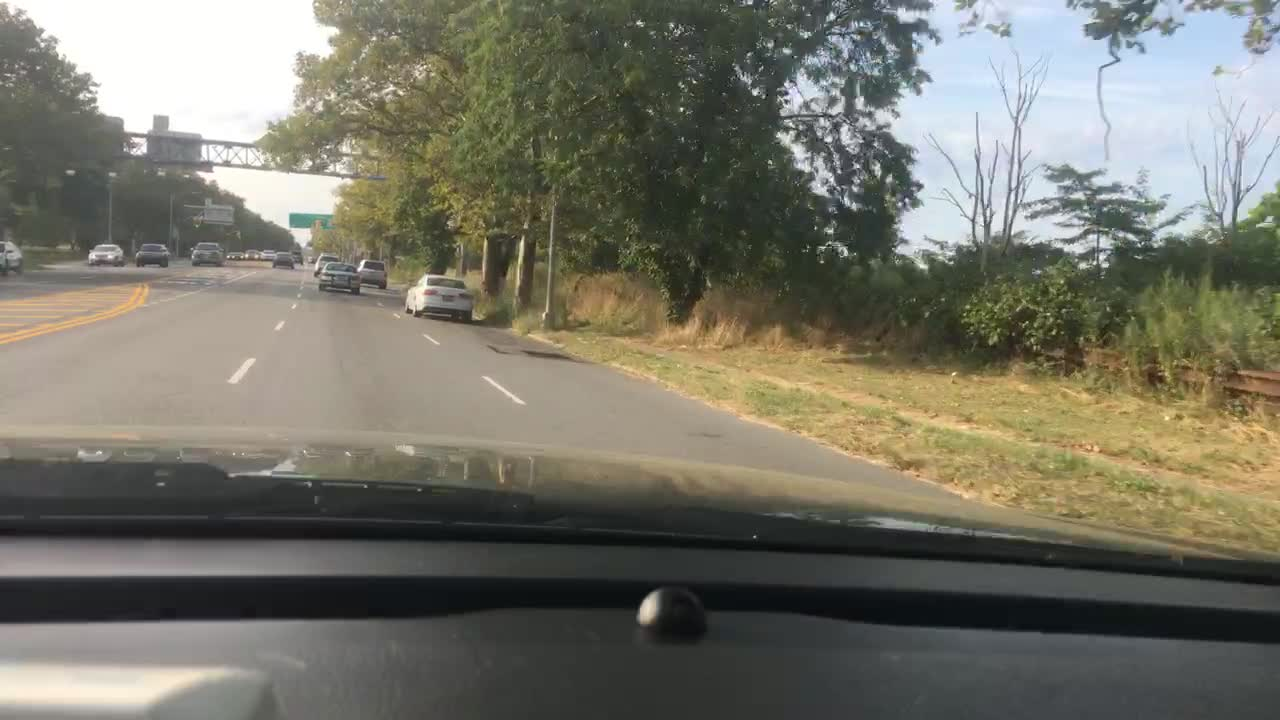car: (401, 271, 473, 319), (317, 260, 363, 292), (188, 239, 226, 266), (357, 259, 389, 287), (0, 241, 26, 275), (133, 242, 170, 265), (88, 242, 124, 265), (310, 253, 339, 275), (272, 250, 295, 267), (244, 248, 262, 260), (227, 250, 244, 262), (289, 251, 305, 263), (259, 248, 274, 259), (302, 253, 314, 265)
traffic sign: (149, 129, 203, 165), (287, 212, 338, 229), (202, 203, 237, 223), (152, 112, 170, 127)
